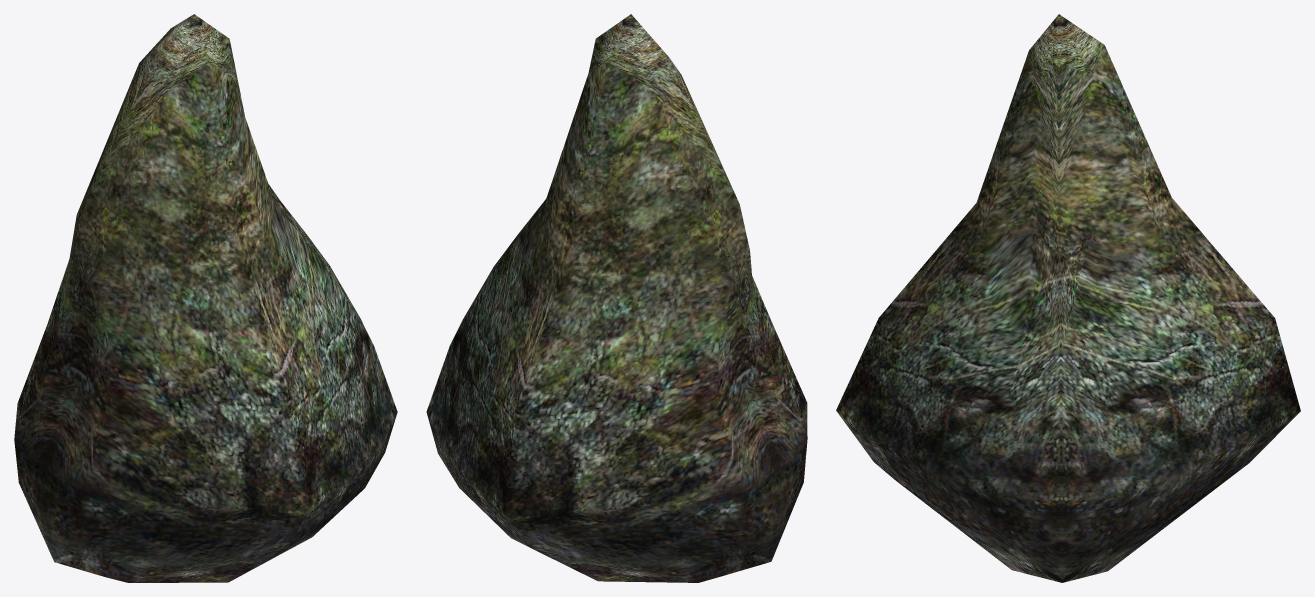
Rendered from thm_all_cave_stalagmite_damprock_a2_l0.fbx.
3 renders of one model, left to right at view 1: azimuth 30°, elevation 25°; view 2: azimuth 150°, elevation 25°; view 3: azimuth 270°, elevation 25°, orthographic. The views are drawn at different scales.
Parts seen in each view (by area): view 1: mesh_node; view 2: mesh_node; view 3: mesh_node.
Boxes of the visible parts, x1,y1,x2,y2 form: mesh_node: (14, 14, 397, 582); mesh_node: (426, 14, 807, 582); mesh_node: (836, 14, 1300, 582).
Size of the model in its own units: 0.8506 by 1.33 by 1.04.
